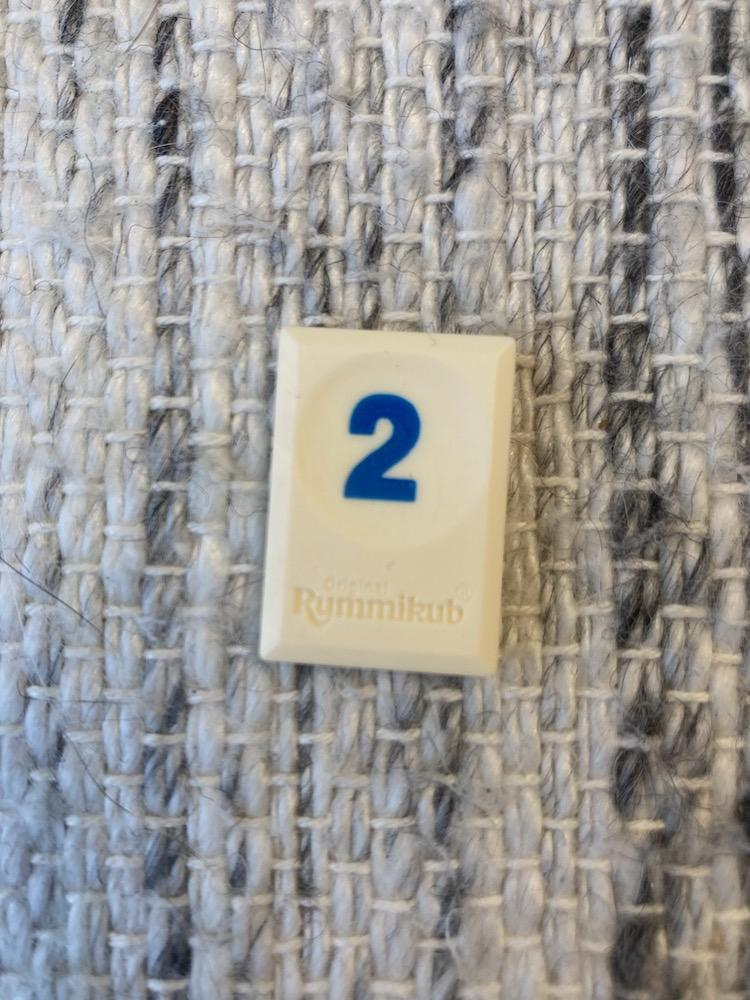blue_2: (260, 328, 514, 676)
